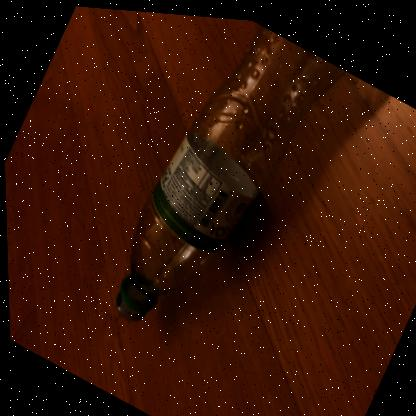Plastic: (115, 19, 347, 320)
